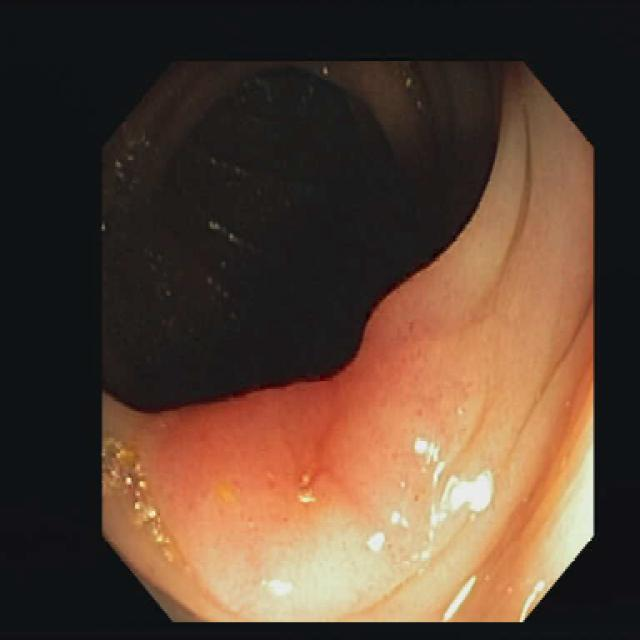tumor: (157, 356, 478, 612)
